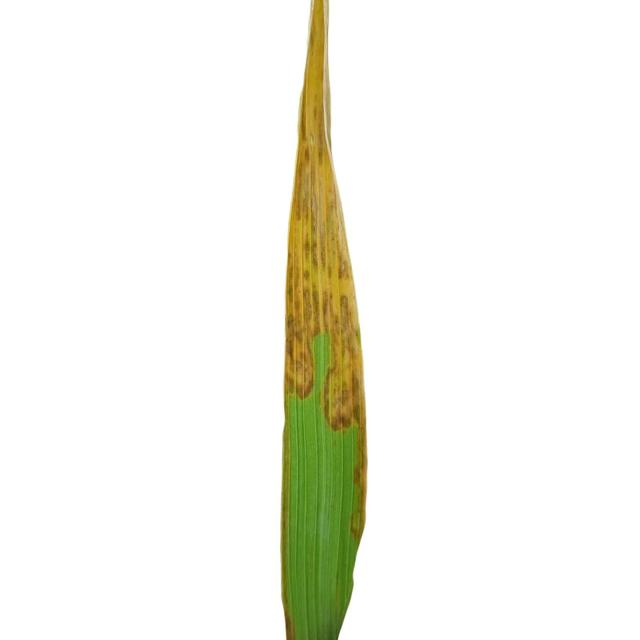Leaf scald: (247, 0, 452, 640)
